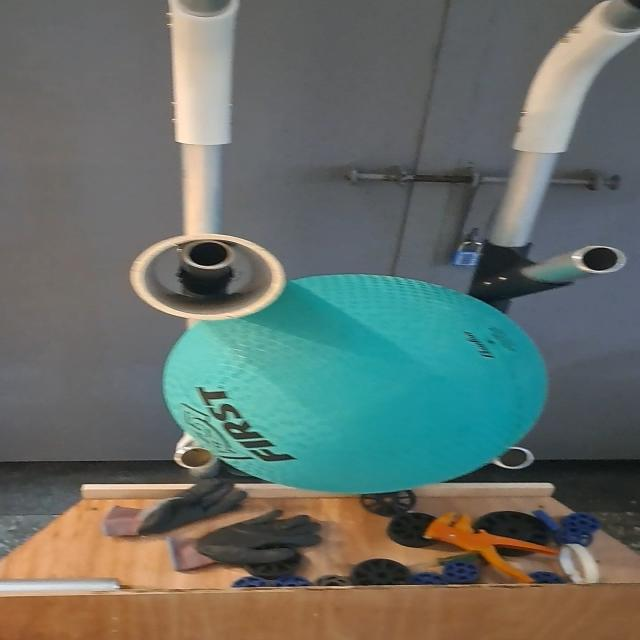ALGAE: (157, 272, 558, 498)
CORAL: (128, 228, 285, 324)
